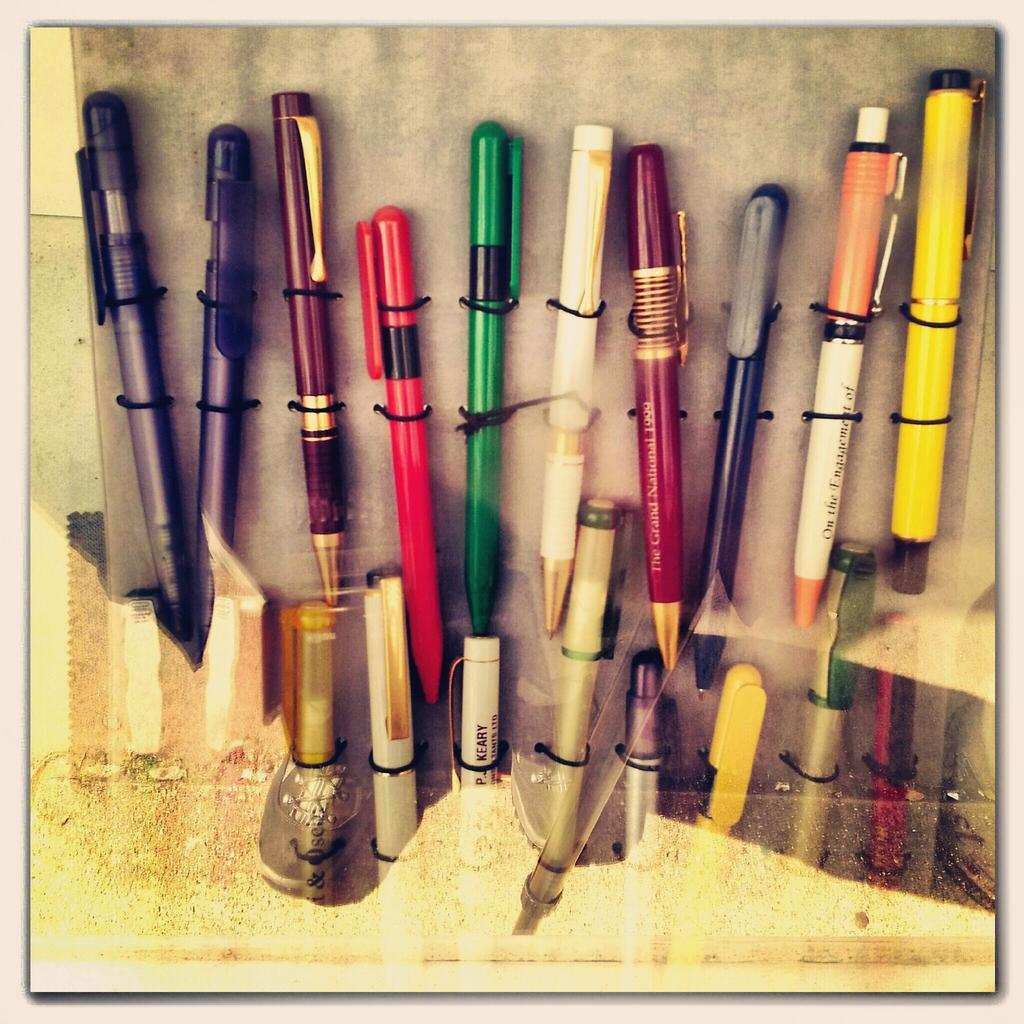pen: (55, 68, 993, 924)
